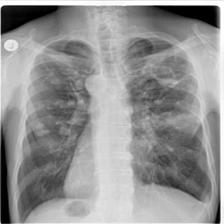tuberculosis: (14, 33, 212, 224)
